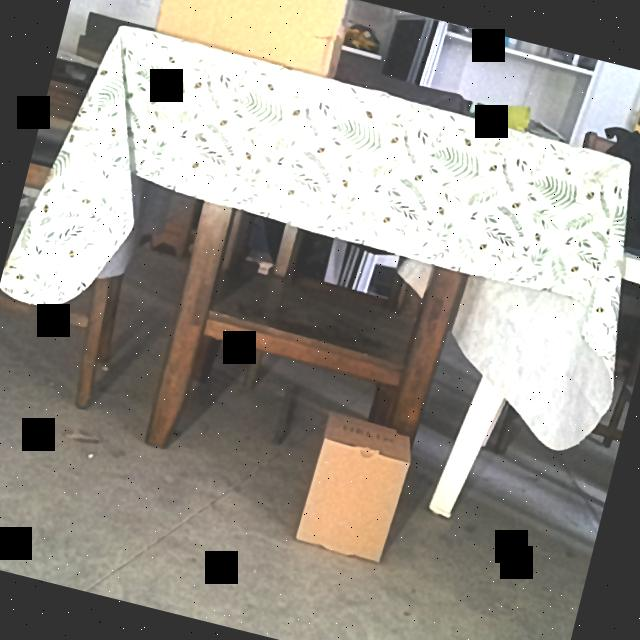box: (152, 0, 346, 76), (296, 436, 408, 563)
